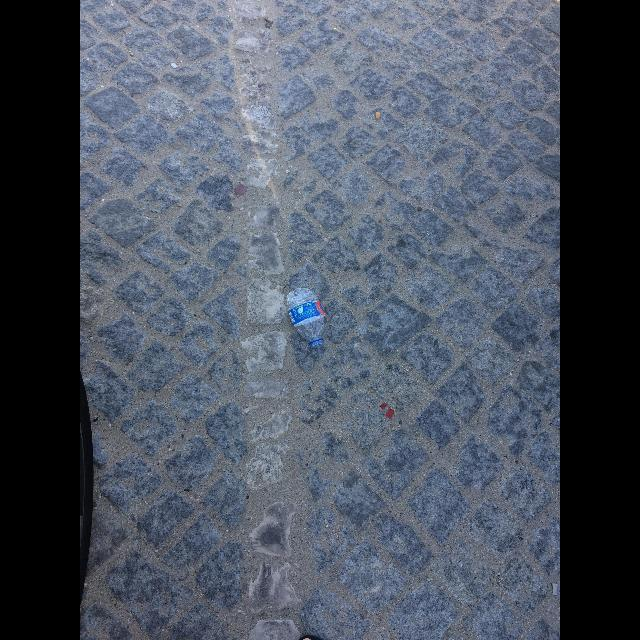Plastic: (284, 288, 326, 348), (288, 302, 326, 326)
